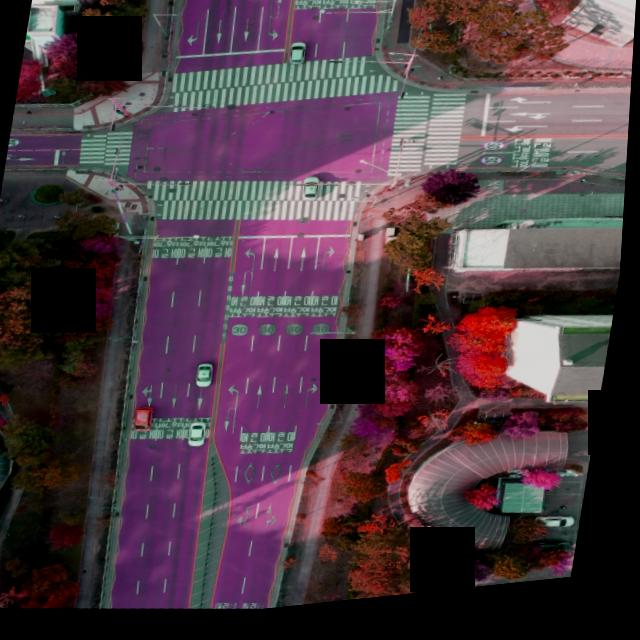car: (542, 525, 584, 542), (192, 423, 214, 451), (137, 408, 159, 434), (200, 365, 221, 391), (289, 48, 308, 72), (305, 181, 324, 205)
